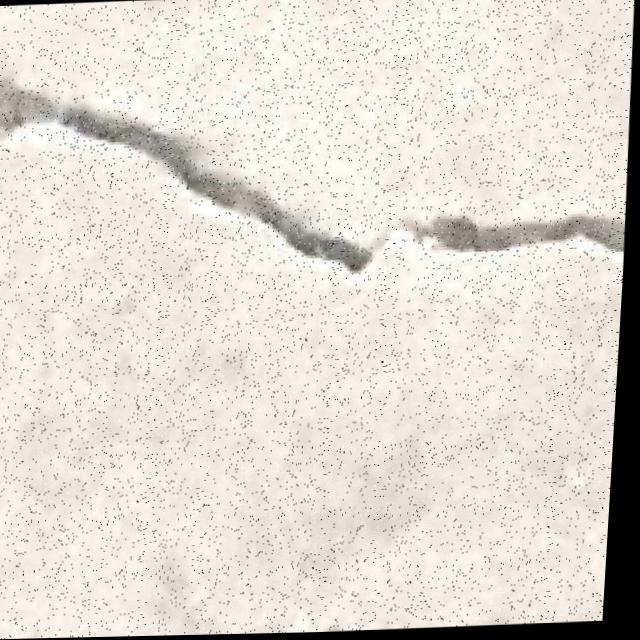Crack: (0, 34, 637, 296)
